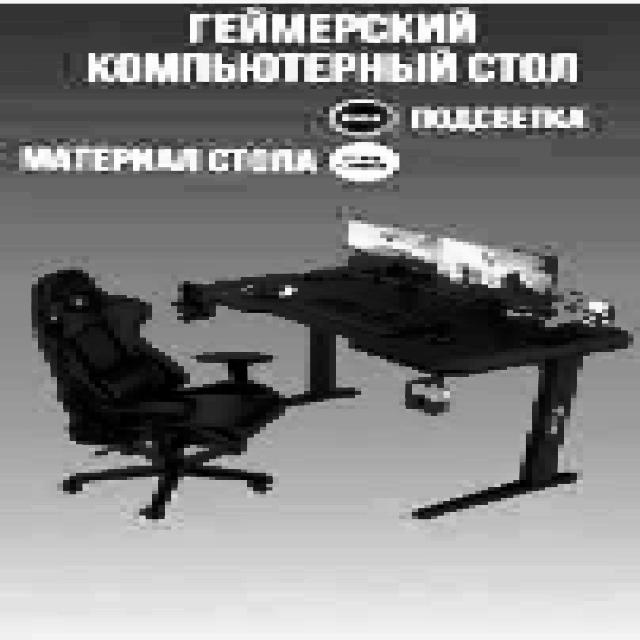book: (25, 267, 285, 519)
table: (171, 263, 627, 519)
